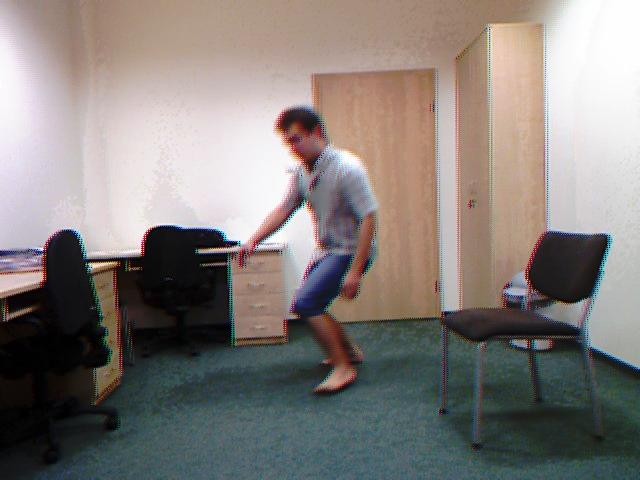near-fall: (238, 105, 378, 394)
